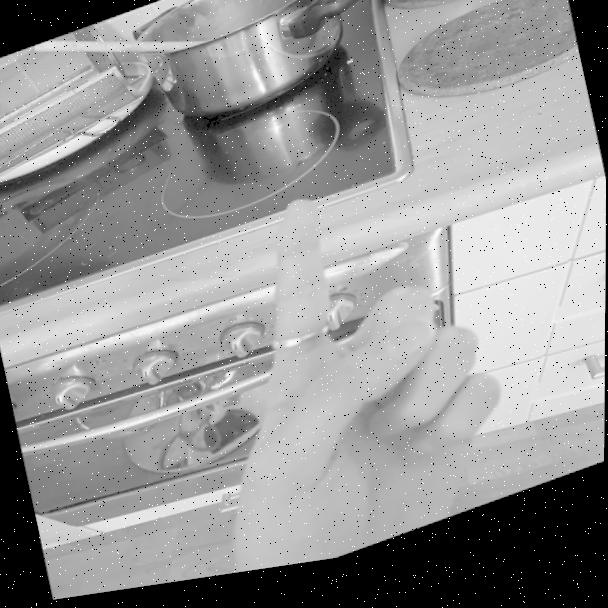one: (168, 146, 537, 588)
